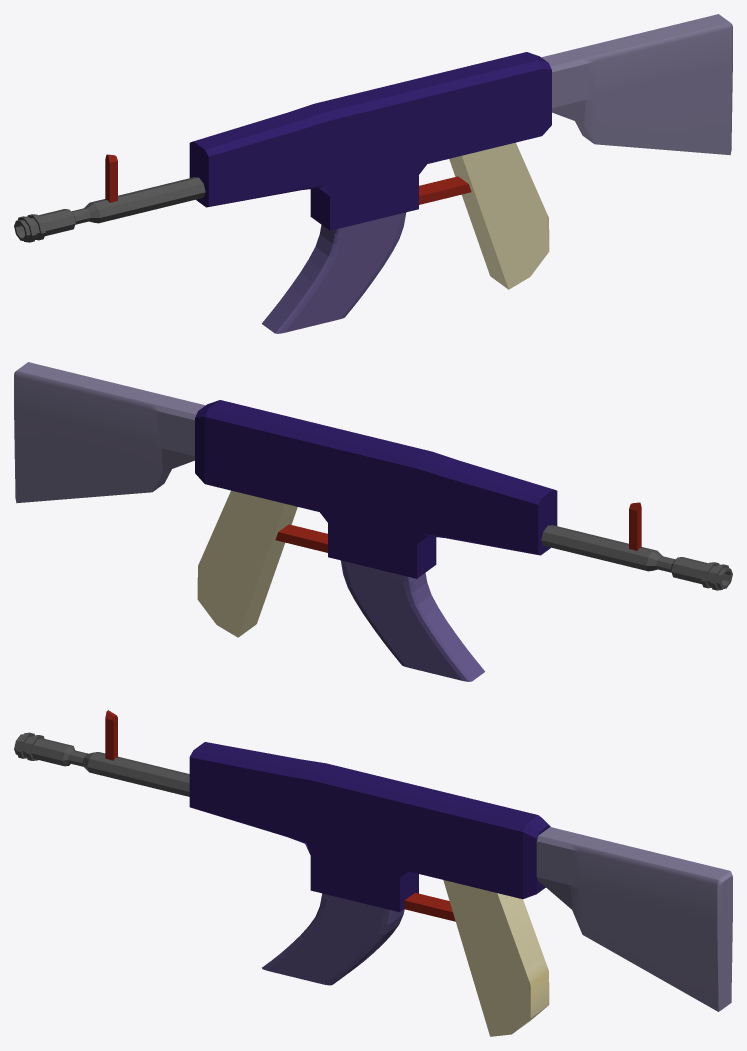
Rendered from Rifle.fbx.
The picture shows the model from 3 angles, top to bottom: view 1: azimuth 30°, elevation 25°; view 2: azimuth 150°, elevation 25°; view 3: azimuth 330°, elevation 25°; orthographic projection.
Parts seen in each view (by area): view 1: polySurface6; view 2: polySurface6; view 3: polySurface6.
Boxes of the visible parts, x1,y1,x2,y2 form: polySurface6: (14,14,732,333); polySurface6: (14,362,732,681); polySurface6: (14,710,732,1036).
Size of the model in its own units: 15.64 by 4.73 by 0.7379.
